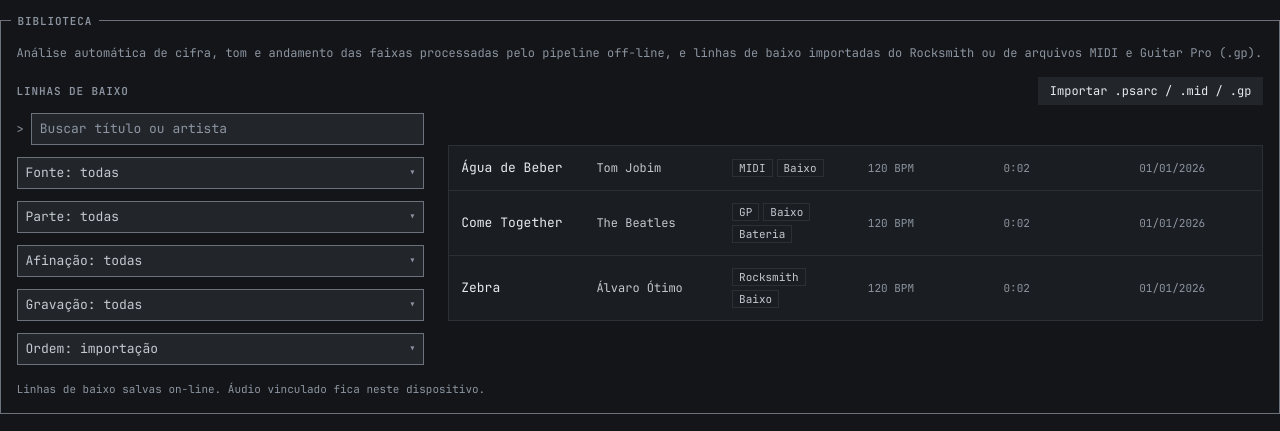
Test: Biblioteca list search, filters, and sort › shows a message when the search has no result, and clears it
Step 1. Type "xyzzy" into the search field named "Buscar por título ou artista" → (228,129), box x1=31 y1=113 x2=424 y2=145
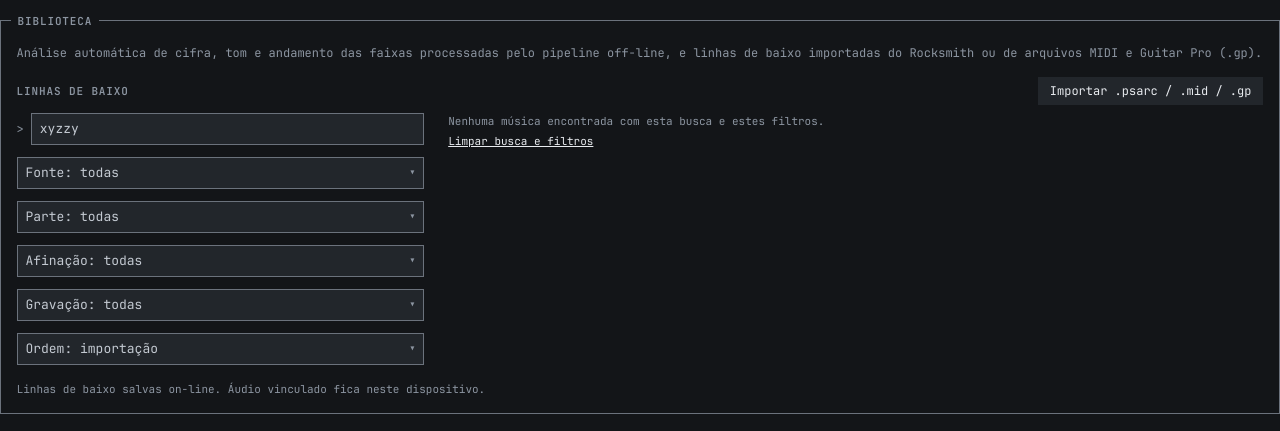
Now the table is gone
Now the text "Nenhuma música encontrada com esta busca e estes filtros." is shown, box x1=448 y1=113 x2=824 y2=129
Step 2. Click the button "Limpar busca e filtros" → (521,141), box x1=448 y1=133 x2=593 y2=149
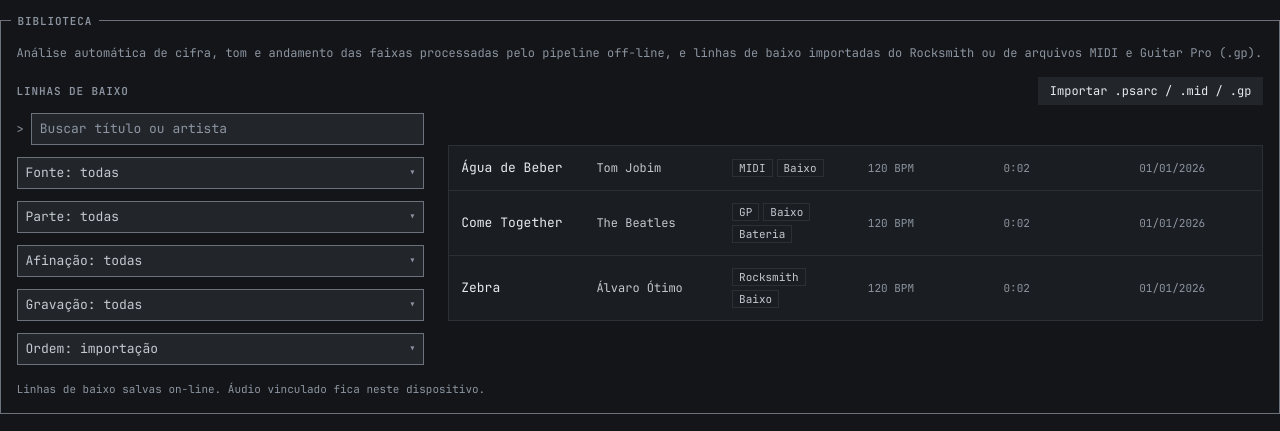
Now the number of links is 3, box x1=461 y1=159 x2=563 y2=176; x1=461 y1=214 x2=563 y2=231; x1=461 y1=279 x2=500 y2=296
